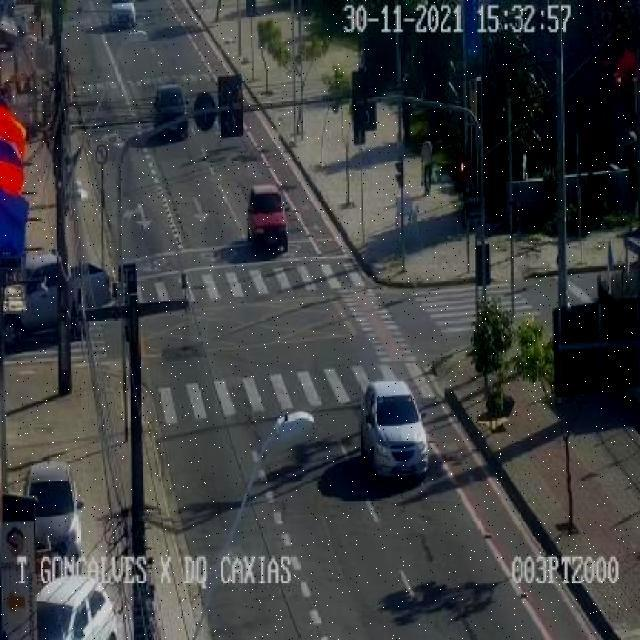Car: (362, 378, 430, 474), (248, 182, 288, 252), (150, 85, 189, 140), (108, 1, 141, 30)
